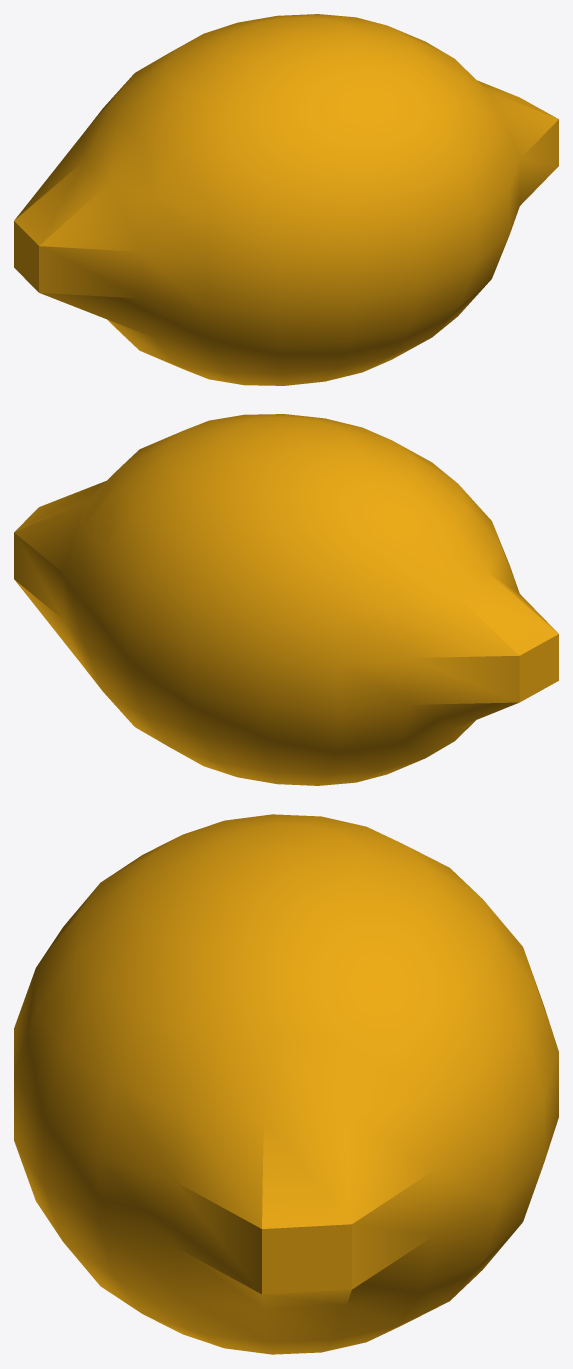
File: lemon.fbx
3 views of the same model, one above another, from view 1: azimuth 30°, elevation 25°; view 2: azimuth 150°, elevation 25°; view 3: azimuth 270°, elevation 25° (orthographic). The views are drawn at different scales.
Parts seen in each view (by area): view 1: Sphere; view 2: Sphere; view 3: Sphere.
Boxes of the visible parts, left/top/right/bottom form: Sphere: left=14, top=14, right=558, bottom=385; Sphere: left=14, top=414, right=558, bottom=785; Sphere: left=14, top=814, right=558, bottom=1354.
Size of the model in its own units: 8.79 by 5.31 by 5.71.
